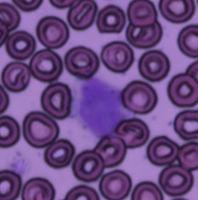M: (73, 75, 123, 137)
